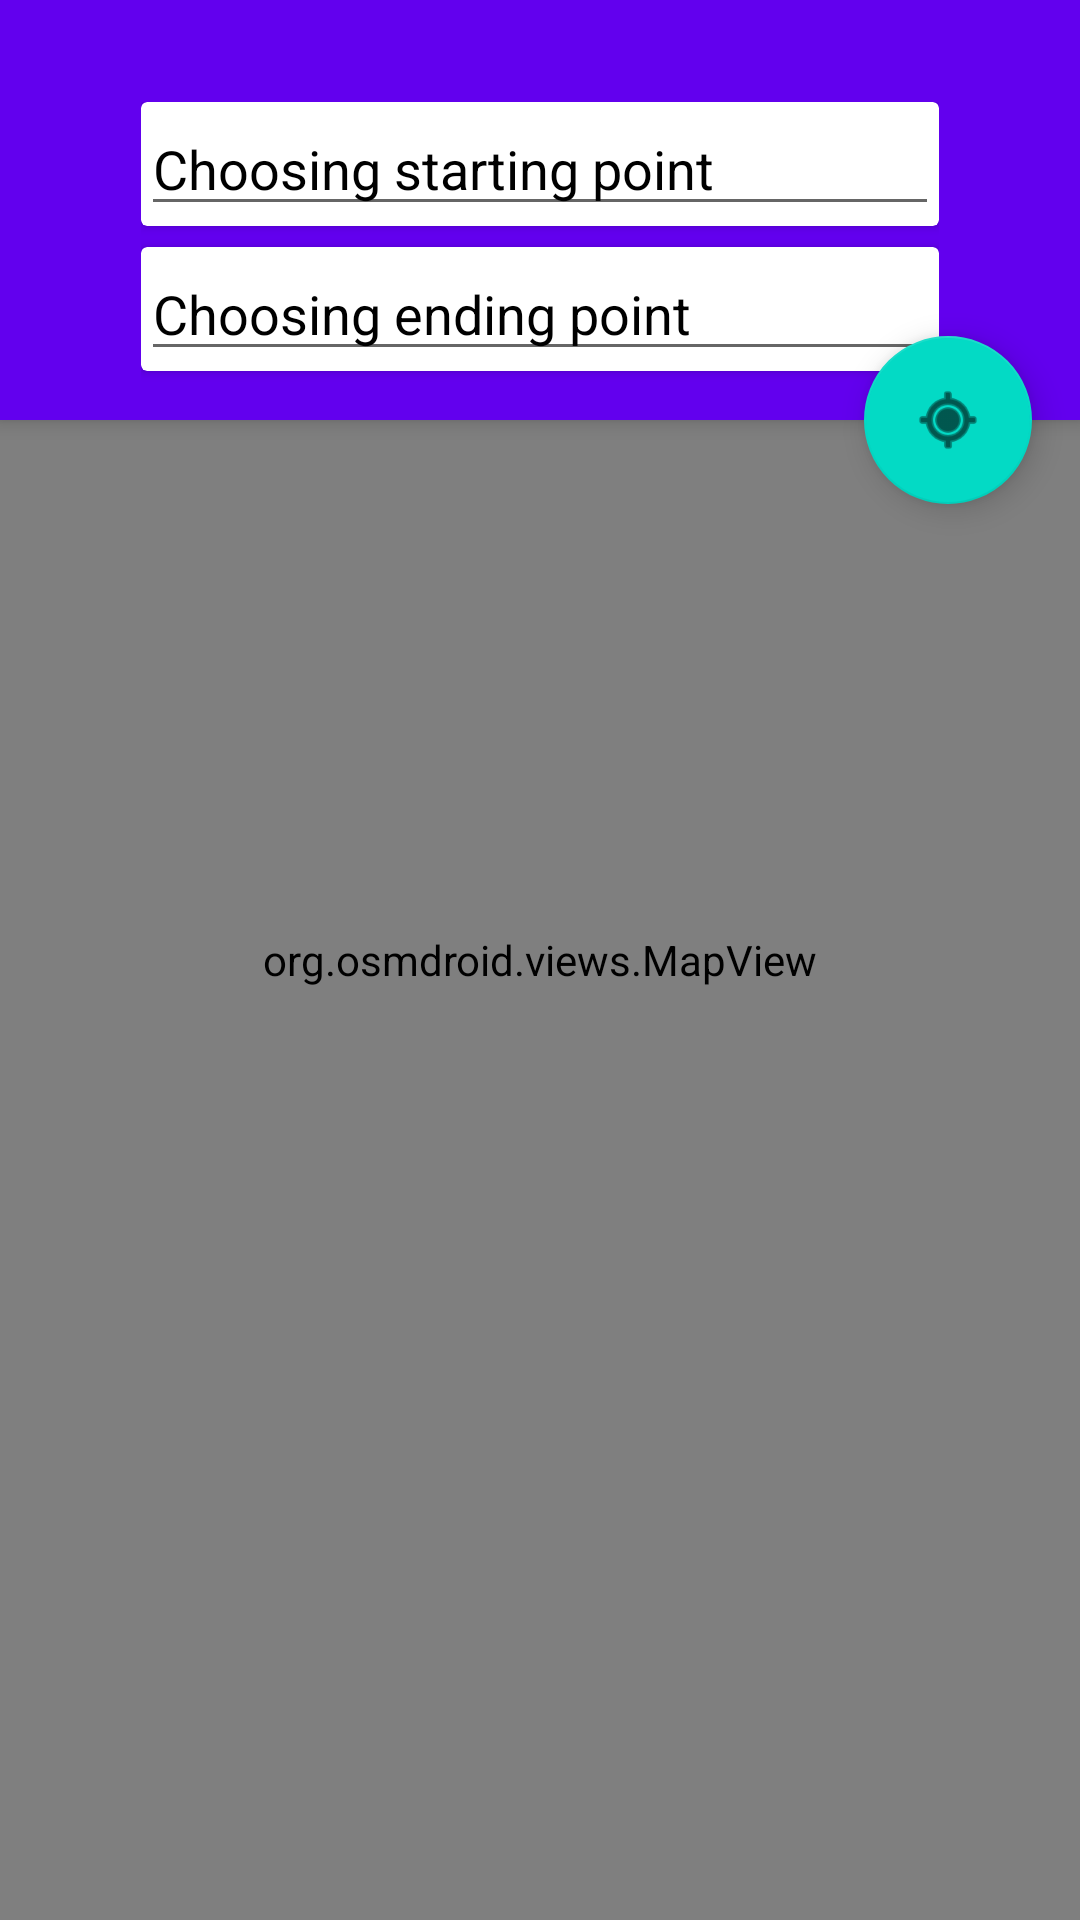

Icon click points for this 1080px×1920px phone screenshot, format (x=x, y=y):
mylocation: (x=948, y=420)
